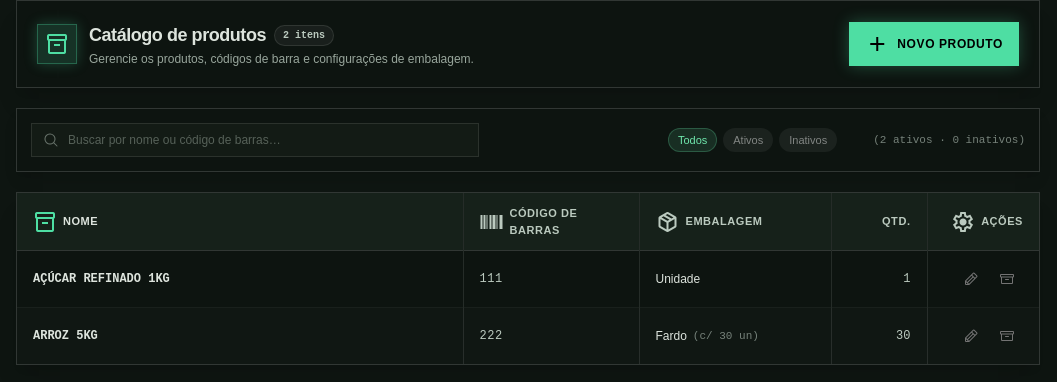
Test: busca filtra por nome parcial, sem diferenciar caixa ou acento
Expected: the button "Açúcar refinado 1kg" is shown, [33,271,170,287]
Step 1. Type "acucar" into the search field named "Buscar produto" → [255, 140], box [31,123,479,157]
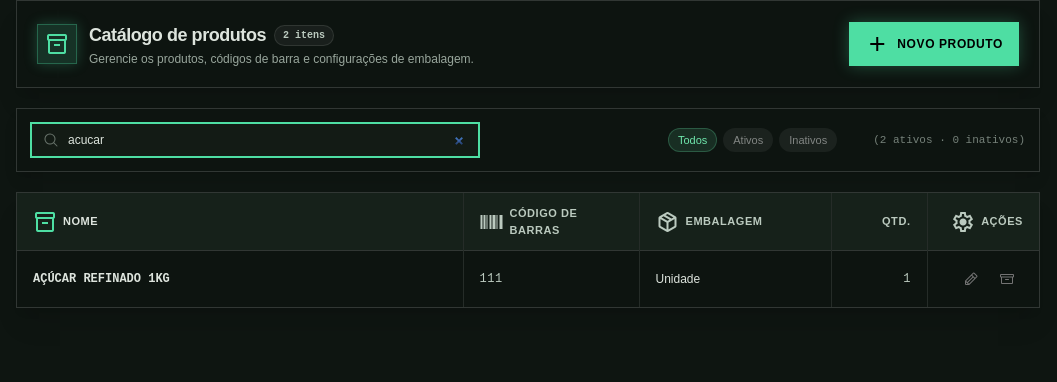
Expected: the button "Açúcar refinado 1kg" is shown, [33,271,170,287]
Result: the button "Arroz 5kg" is gone
